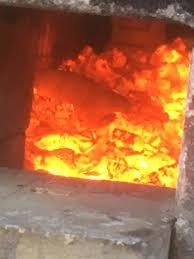fire: (22, 36, 187, 186)
